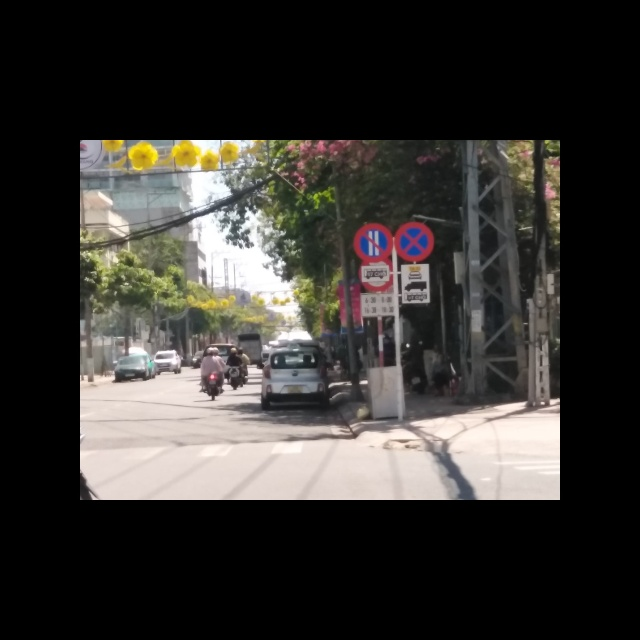Cấm dừng xe và đỗ xe: (394, 220, 434, 261)
Cấm đỗ xe ngày chẵn: (352, 221, 394, 262)
